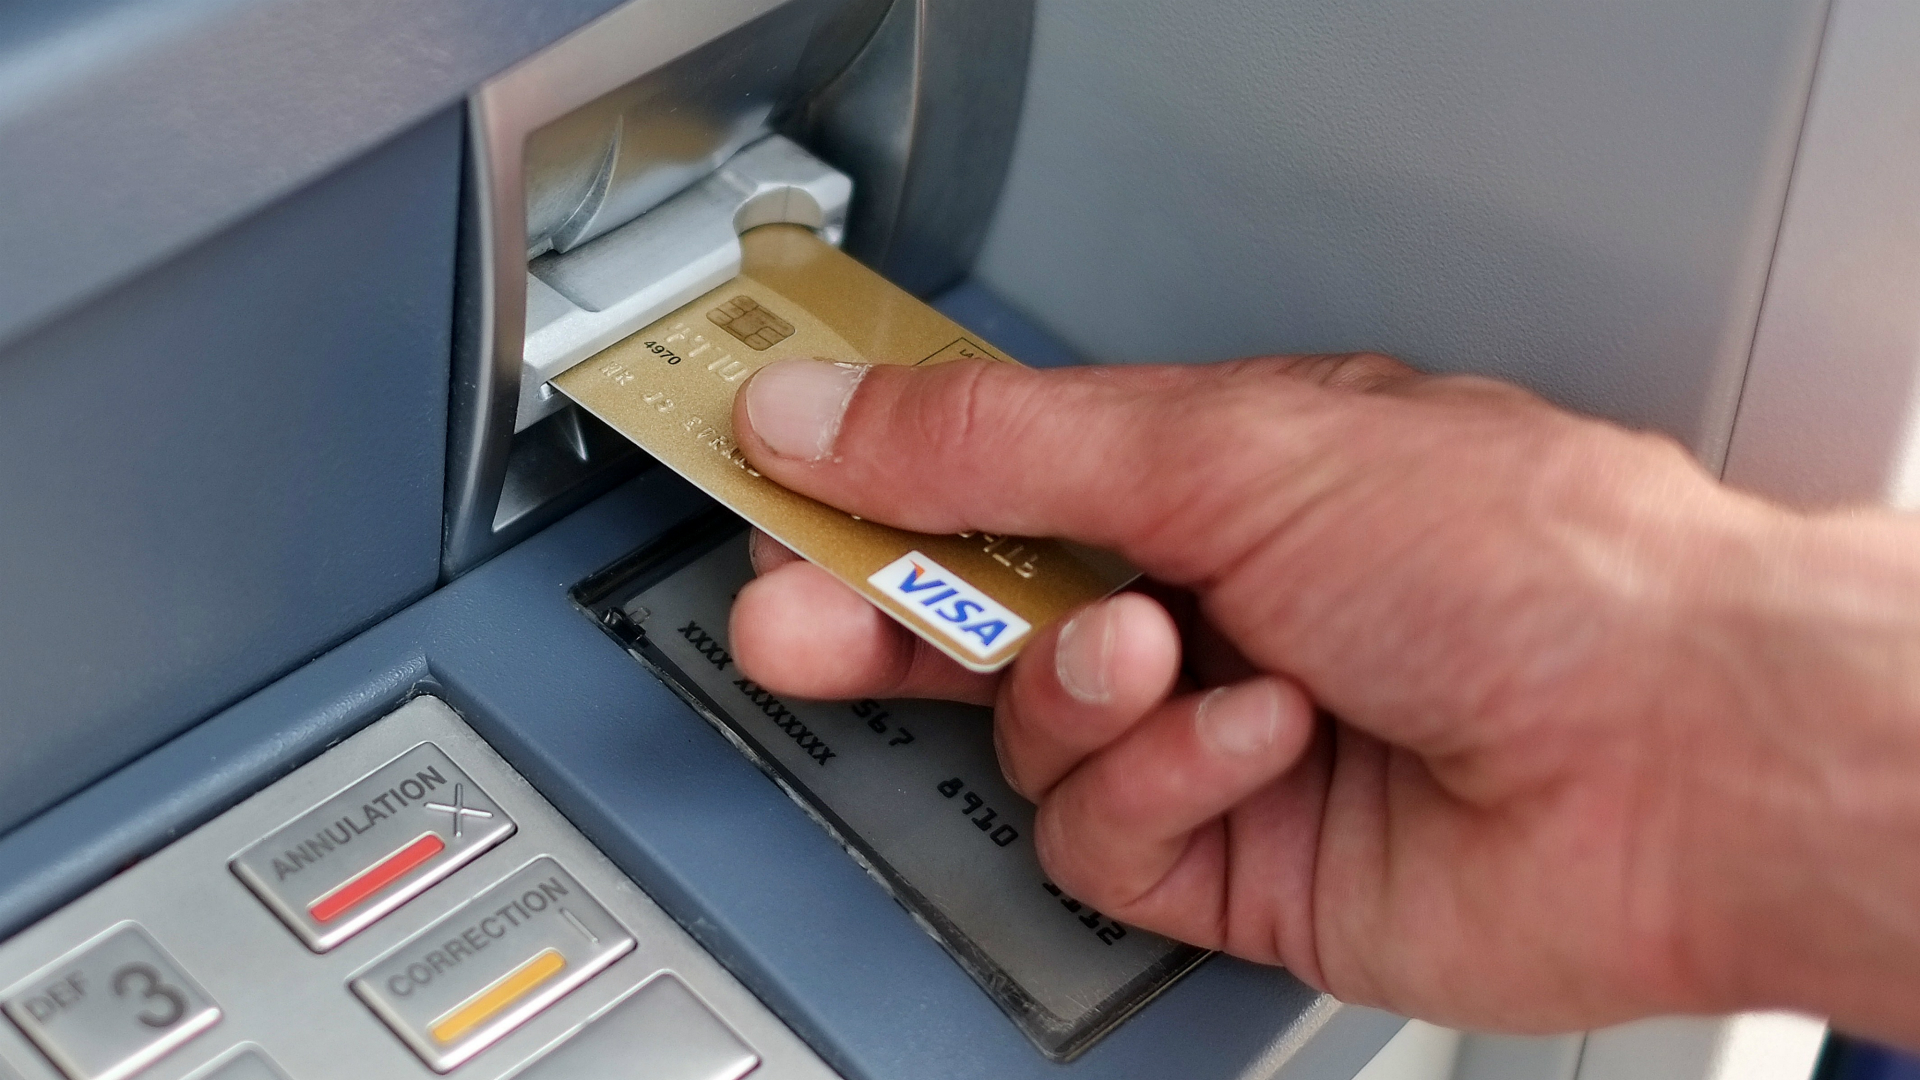tarjeta: (538, 214, 1162, 679)
